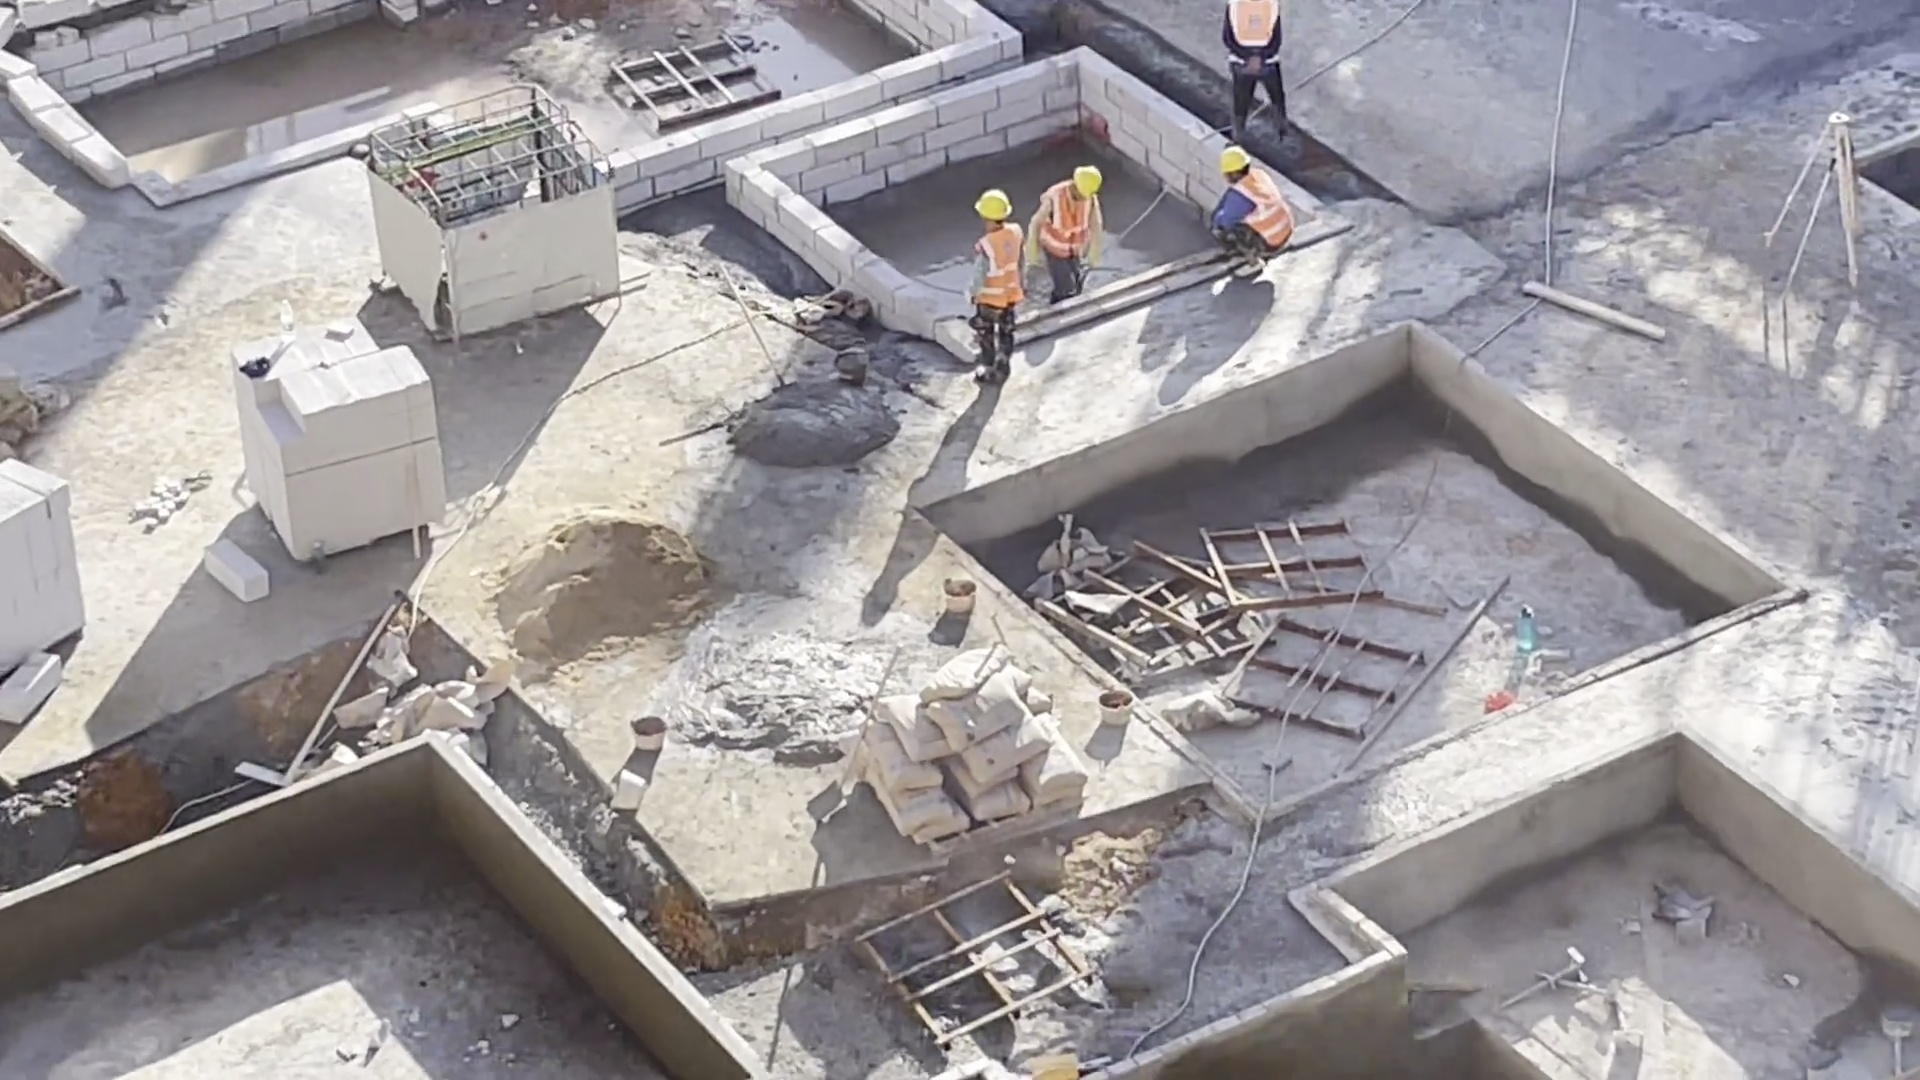brick: (226, 335, 448, 558), (1, 453, 99, 676)
helmet: (1213, 131, 1255, 182), (971, 181, 1016, 222), (1075, 161, 1107, 197)
person: (1204, 142, 1299, 293), (1209, 1, 1318, 126), (1038, 154, 1111, 308), (962, 178, 1025, 348)
vest: (1227, 164, 1289, 259), (964, 223, 1024, 302), (1041, 178, 1098, 257), (1224, 1, 1286, 71)
